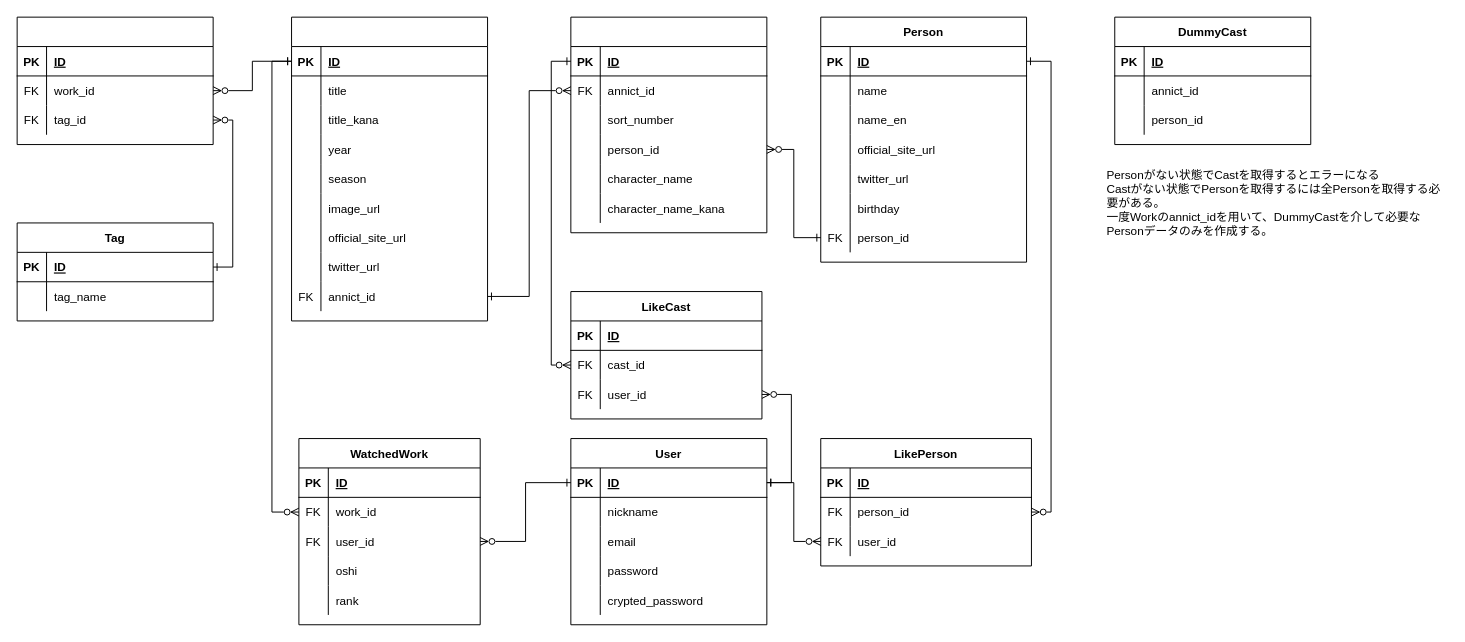
The diagram is 1465 pixels wide and 642 high, and some of its shapes have lost their labels. Here are the shapes that lost their labels. From the top down, the box of each, then its label:
(16, 16, 213, 145): TagMap
(570, 16, 767, 233): Cast
(291, 16, 488, 321): Work
